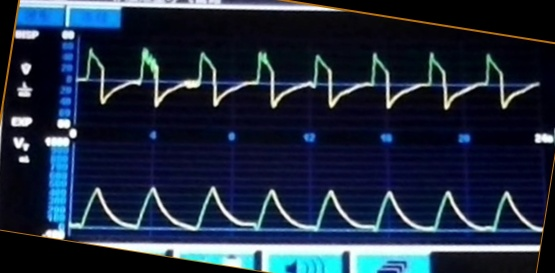Accumulation Flow: (79, 45, 545, 123)
Volume: (73, 164, 537, 241)
